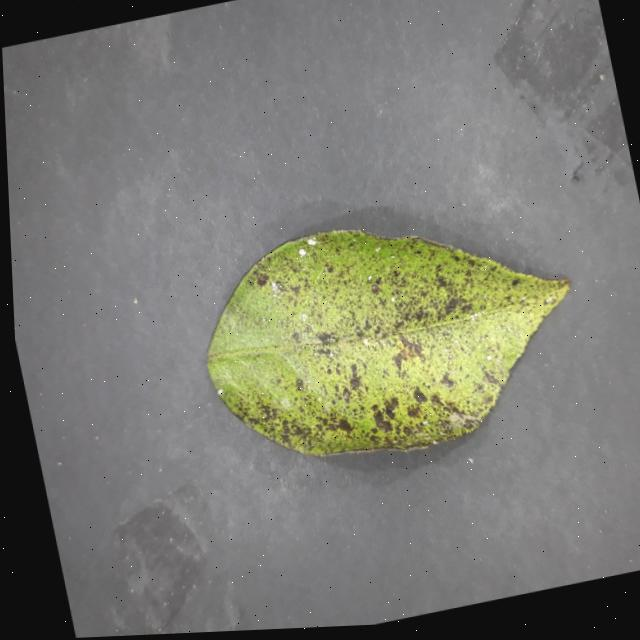greasy_spot: (207, 230, 568, 454)
